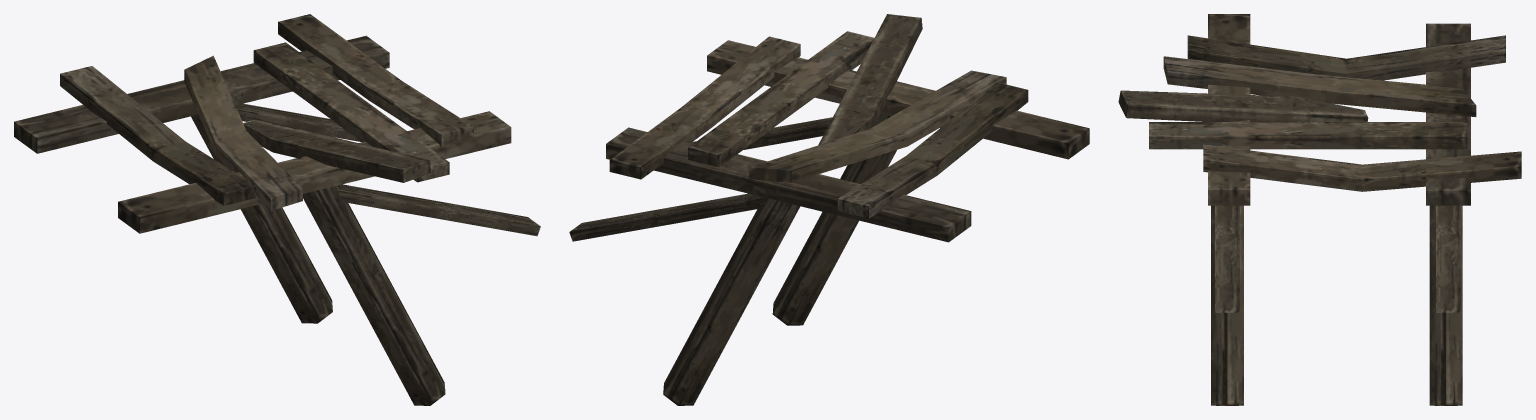
Rendered from zshh_mujia_01.FBX.
3 renders of one model, left to right at view 1: azimuth 30°, elevation 25°; view 2: azimuth 150°, elevation 25°; view 3: azimuth 270°, elevation 25°, orthographic. The views are drawn at different scales.
Visible parts, largest first — view 1: zshh_mujia_01; view 2: zshh_mujia_01; view 3: zshh_mujia_01.
Part boxes in pixels (x1=…): zshh_mujia_01: x1=14, y1=14, x2=540, y2=405; zshh_mujia_01: x1=569, y1=14, x2=1089, y2=405; zshh_mujia_01: x1=1118, y1=14, x2=1521, y2=405.
Bounding box in the file's own units: 250 × 222 × 172.
